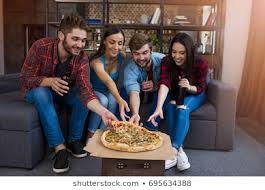pizza: (103, 123, 159, 150)
